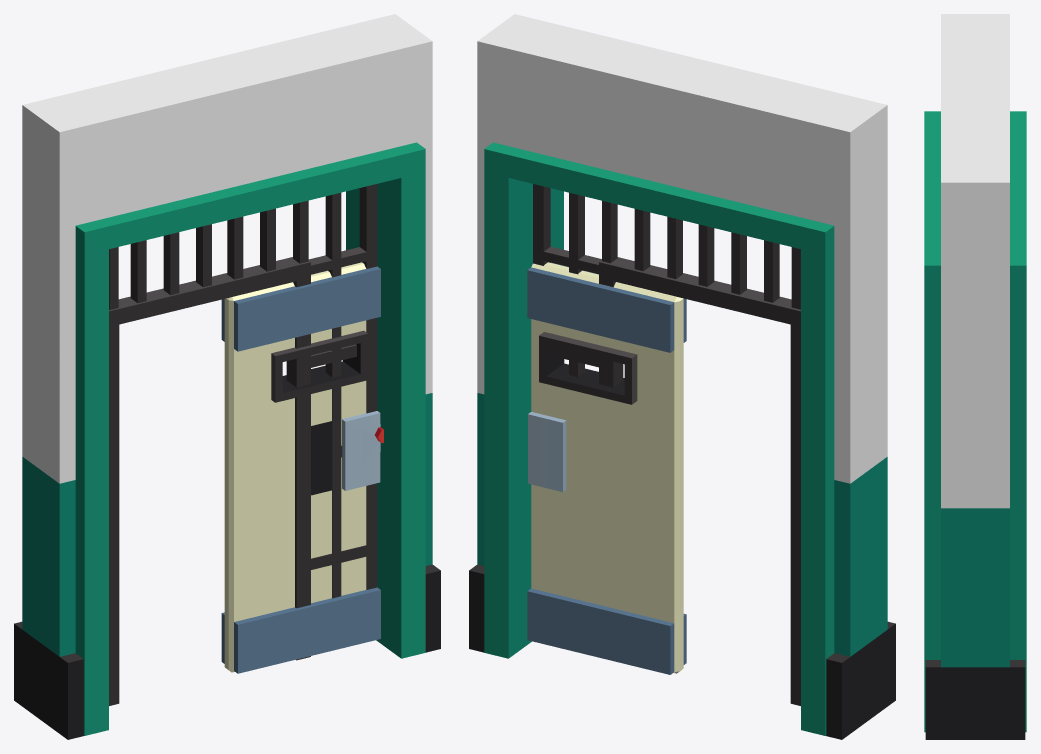
Rendered from wall1.fbx.
3 renders of one model, left to right at view 1: azimuth 30°, elevation 25°; view 2: azimuth 150°, elevation 25°; view 3: azimuth 270°, elevation 25°, orthographic. The views are drawn at different scales.
Visible parts, largest first — view 1: wall1, celldoor_wallroad; view 2: wall1, celldoor_wallroad; view 3: wall1.
Boxes of the visible parts, x1,y1,x2,y2 form: wall1: [14, 14, 440, 739]; celldoor_wallroad: [221, 262, 383, 673]; wall1: [469, 14, 895, 739]; celldoor_wallroad: [527, 262, 686, 674]; wall1: [924, 14, 1026, 739].
Bounding box in the file's own units: 104 × 160 × 26.73.
